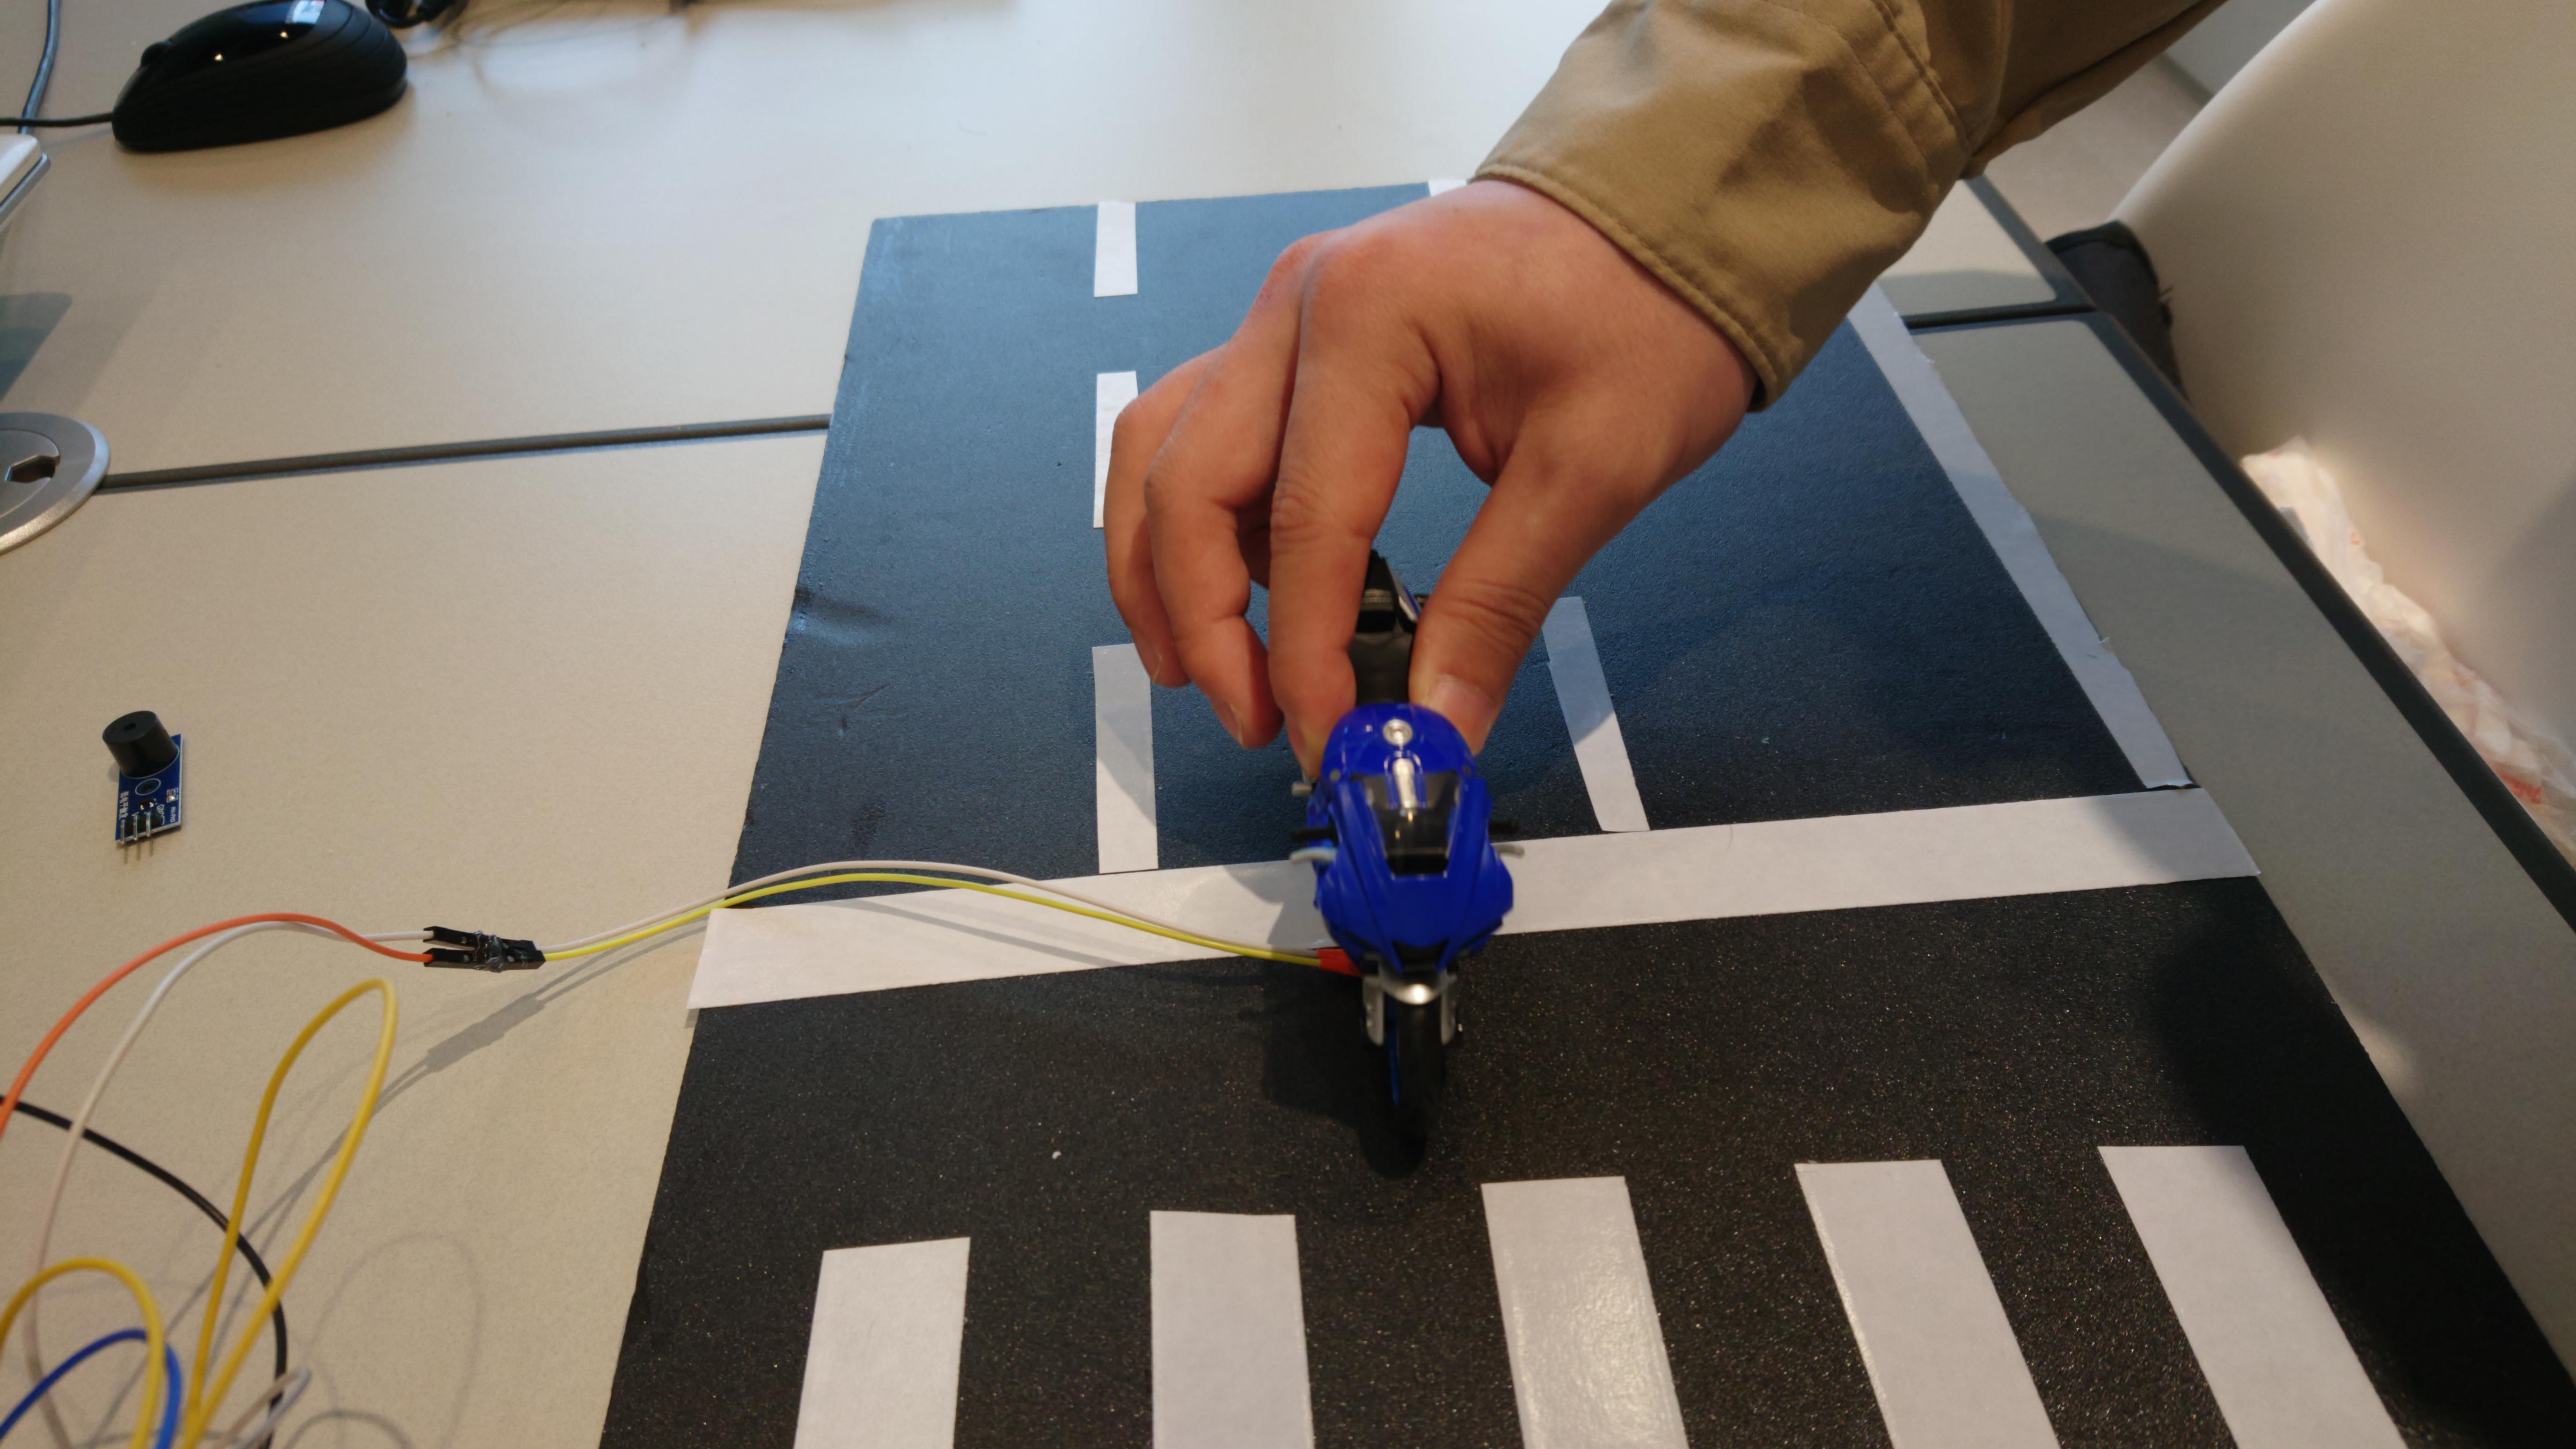Motorcycle: (1286, 531, 1525, 1154)
